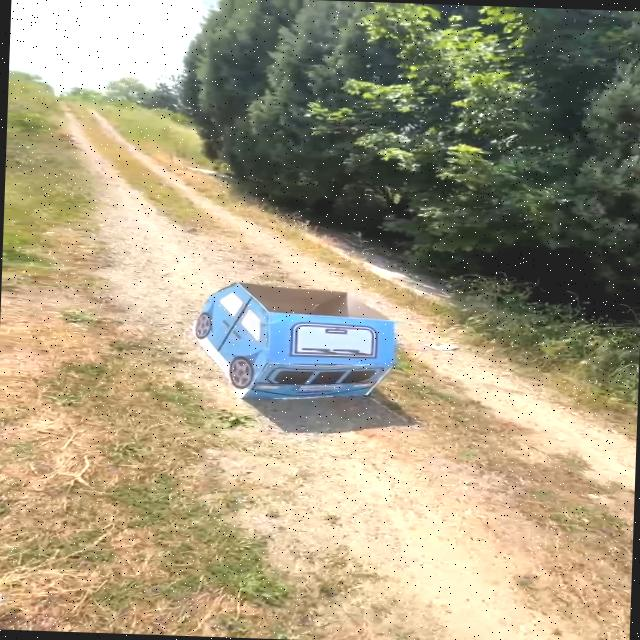blue_car: (179, 249, 417, 425)
